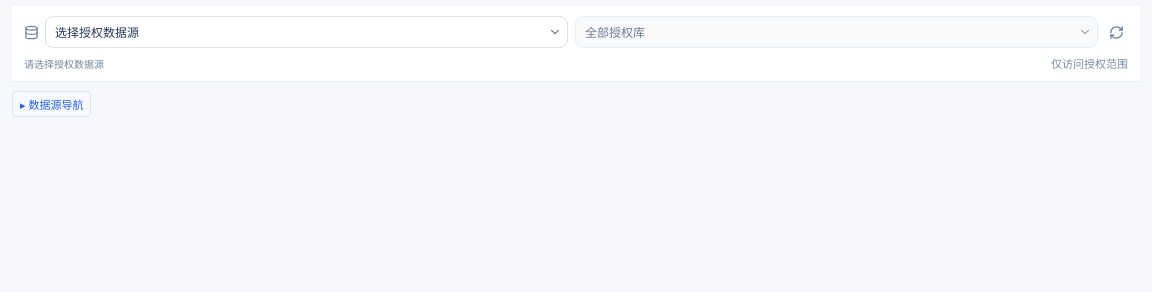
it: Schema Explorer API integration › binds the selected namespace while keeping the asset-wide namespace directory
The width and height of the screenshot is (1152, 292).
Click the button "▸ 数据源导航": (52, 104) [12,91,91,117]
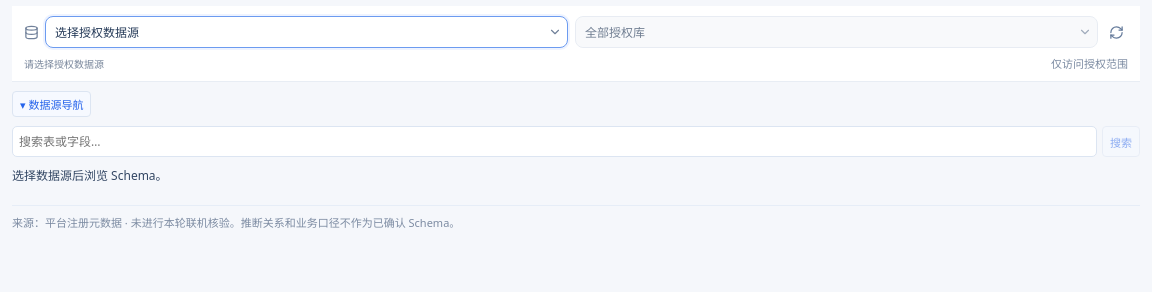
Click the dropdown named "选择数据源": (294, 32) [46,17,542,47]
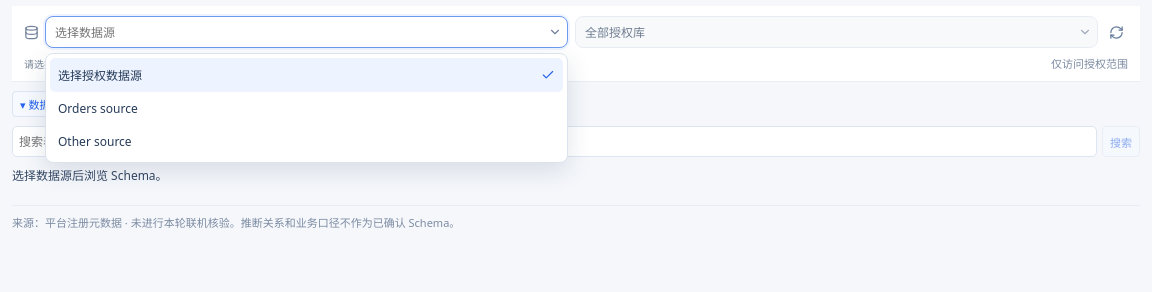
expect the option "Orders source" is shown: met
Click the option "Orders source": (98, 108) [50,92,563,125]
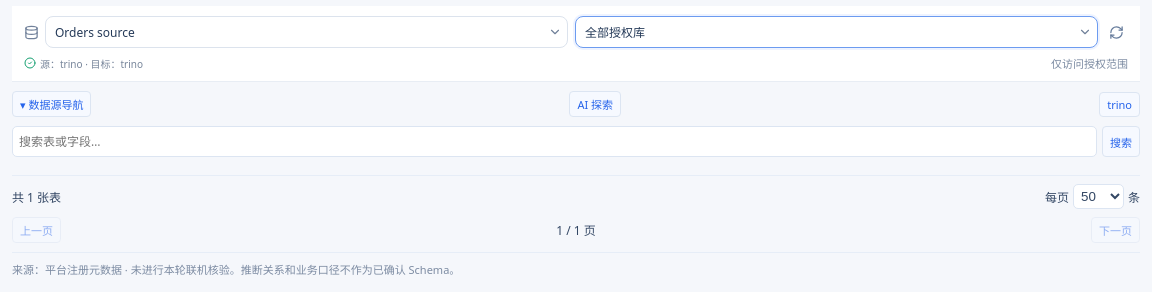
Click the dropdown named "选择数据库或 Schema": (824, 32) [576,17,1072,47]
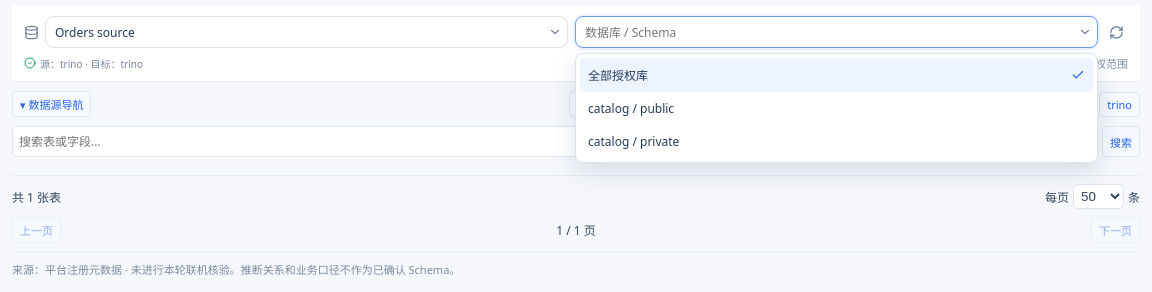
expect the option "catalog / public" is shown: met
Click the option "catalog / public": (631, 108) [580,92,1093,125]
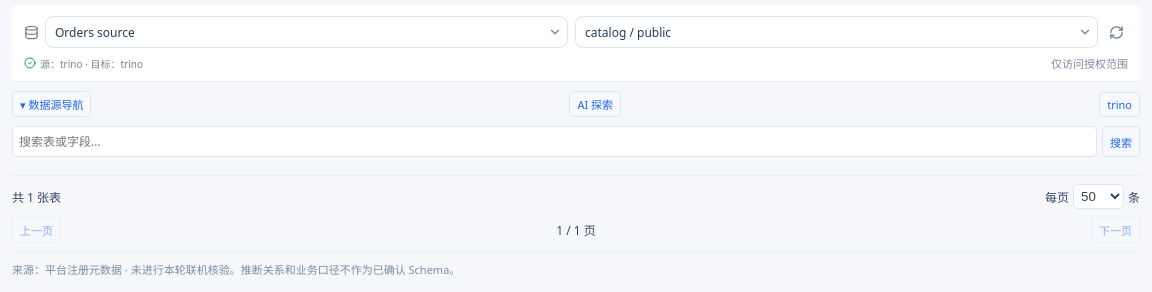
Click the dropdown named "选择数据库或 Schema": (824, 32) [576,17,1072,47]
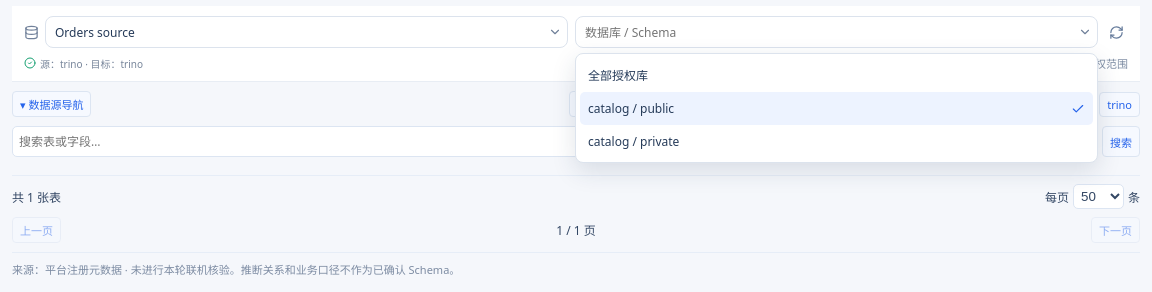
expect the number of options is 3: met, box [580,58,1093,92]; [580,92,1093,125]; [580,125,1093,158]
